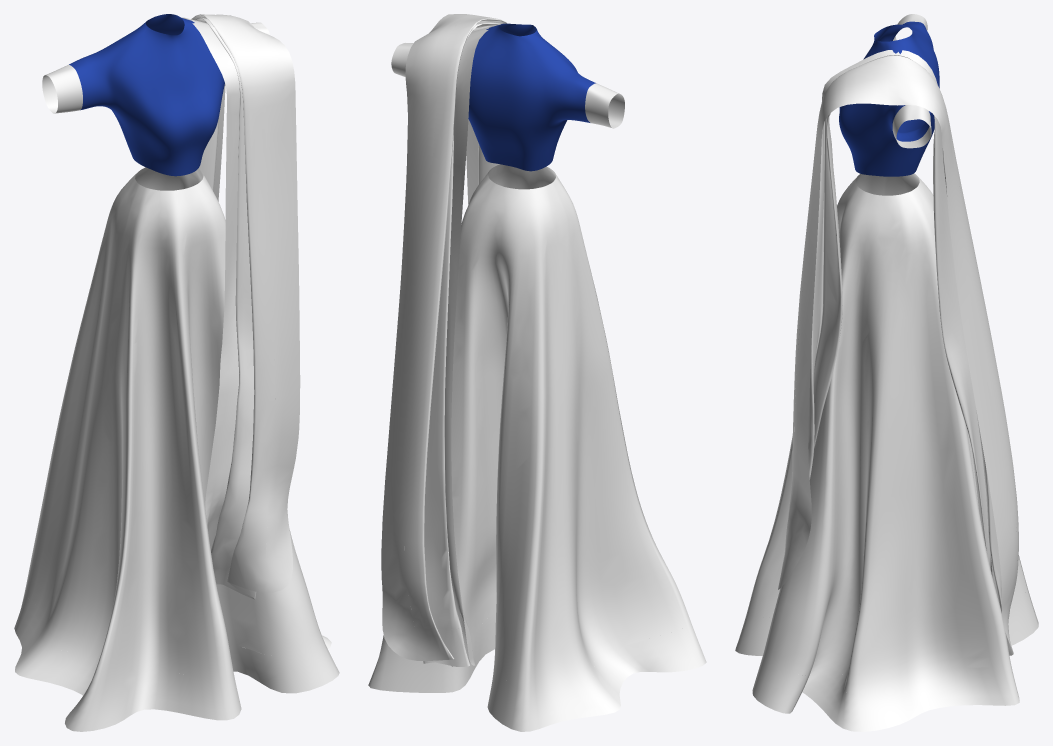
The picture shows the model from 3 angles, left to right: view 1: azimuth 30°, elevation 25°; view 2: azimuth 150°, elevation 25°; view 3: azimuth 270°, elevation 25°; orthographic projection.
Visible parts, largest first — view 1: Circle.002_2, Plane.006_6, Cylinder.009_3; view 2: Circle.002_2, Plane.006_6, Cylinder.009_3; view 3: Circle.002_2, Plane.006_6, Cylinder.009_3.
Boxes of the visible parts, <box> form: Circle.002_2: <box>14,167,339,731</box>; Plane.006_6: <box>182,14,300,599</box>; Cylinder.009_3: <box>42,14,269,176</box>; Circle.002_2: <box>368,164,706,731</box>; Plane.006_6: <box>381,14,507,666</box>; Cylinder.009_3: <box>391,23,624,171</box>; Circle.002_2: <box>735,173,1038,731</box>; Plane.006_6: <box>778,50,1018,655</box>; Cylinder.009_3: <box>839,14,939,176</box>.
Size of the model in its own units: 4.83 by 10.26 by 4.48.
